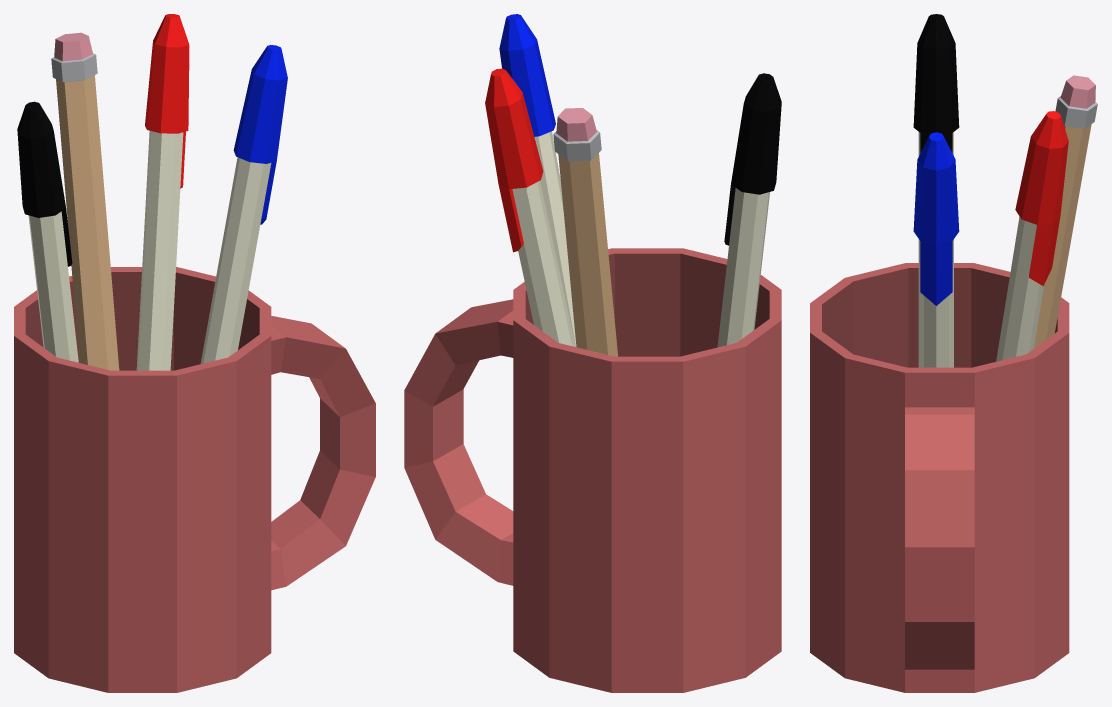
Rendered from Mug&Pencil_Red.fbx.
3 views of the same model, side by side, from view 1: azimuth 30°, elevation 25°; view 2: azimuth 150°, elevation 25°; view 3: azimuth 270°, elevation 25° (orthographic). The views are drawn at different scales.
Parts seen in each view (by area): view 1: Mug/Pencil.004; view 2: Mug/Pencil.004; view 3: Mug/Pencil.004.
Part boxes in pixels (x1,y1,x2,y2): Mug/Pencil.004: (14,14,375,692); Mug/Pencil.004: (404,14,781,692); Mug/Pencil.004: (810,14,1097,692).
Size of the model in its own units: 11.25 by 17.73 by 8.14.
